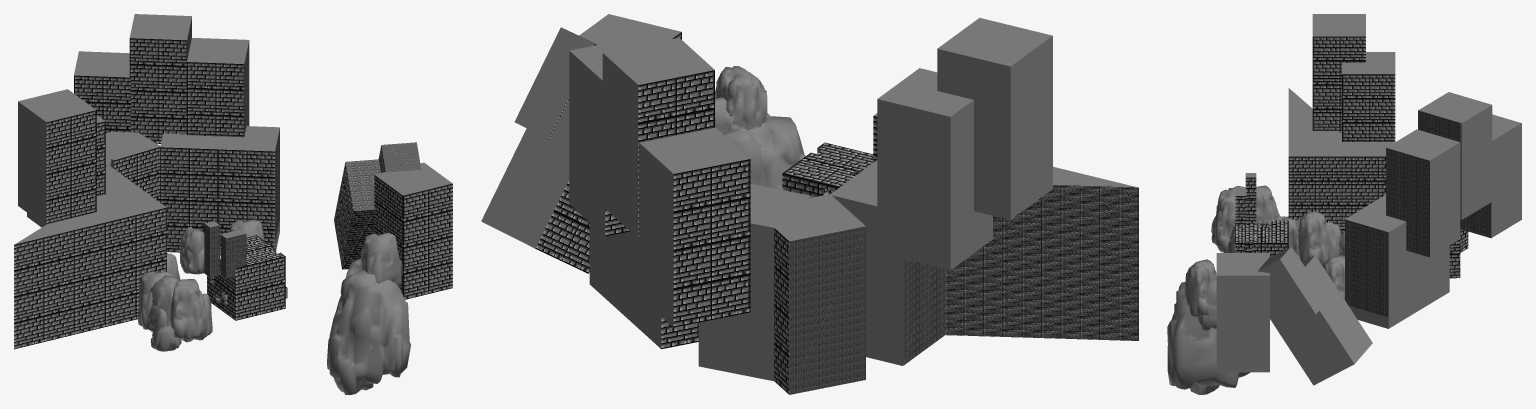
The model's file is Lava_Small_Interior_Magic_World.fbx.
3 views of the same model, side by side, from view 1: azimuth 30°, elevation 25°; view 2: azimuth 150°, elevation 25°; view 3: azimuth 270°, elevation 25° (orthographic). The views are drawn at different scales.
Visible parts, largest first — view 1: LevelMesh; view 2: LevelMesh; view 3: LevelMesh.
Part boxes in pixels (x1,y1,x2,y2): LevelMesh: (14, 14, 452, 394); LevelMesh: (481, 14, 1138, 394); LevelMesh: (1167, 14, 1521, 394).
Size of the model in its own units: 1651974 by 1088084 by 1329169.
